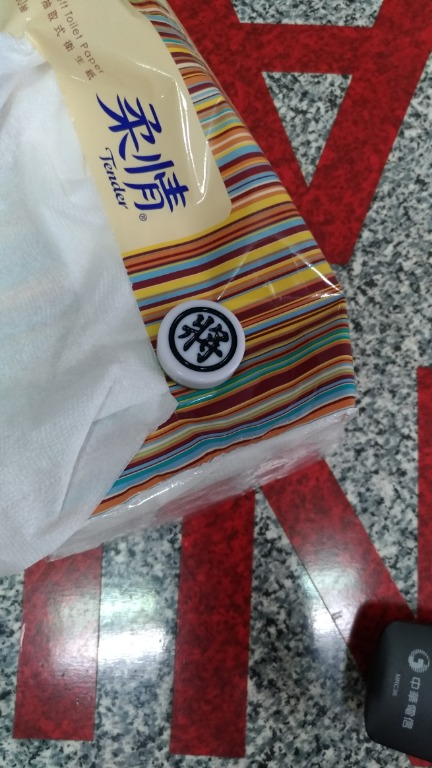b-king: (142, 299, 261, 399)
